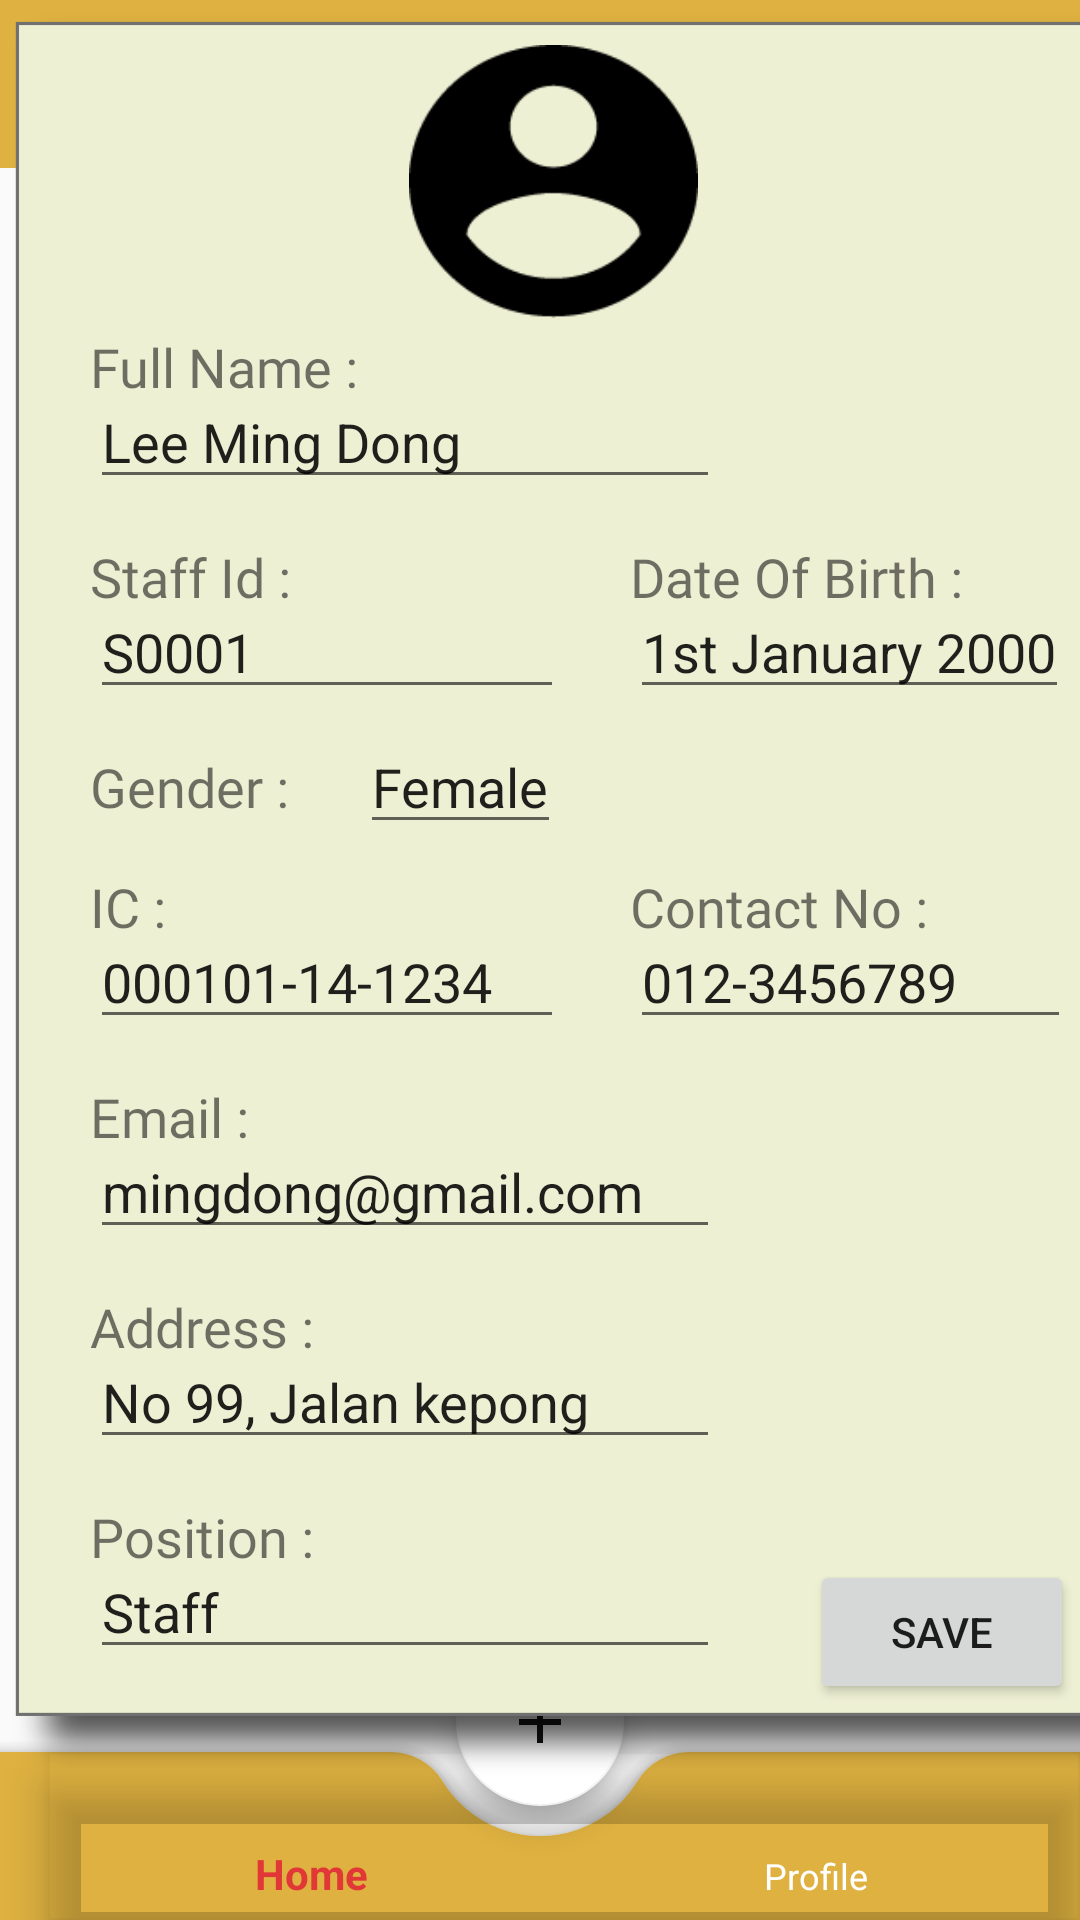

Screen size 1080×1920. Icon name, then its box in pixels as region(x1, y1, x2, y2):
account circle: region(409, 45, 698, 318)
